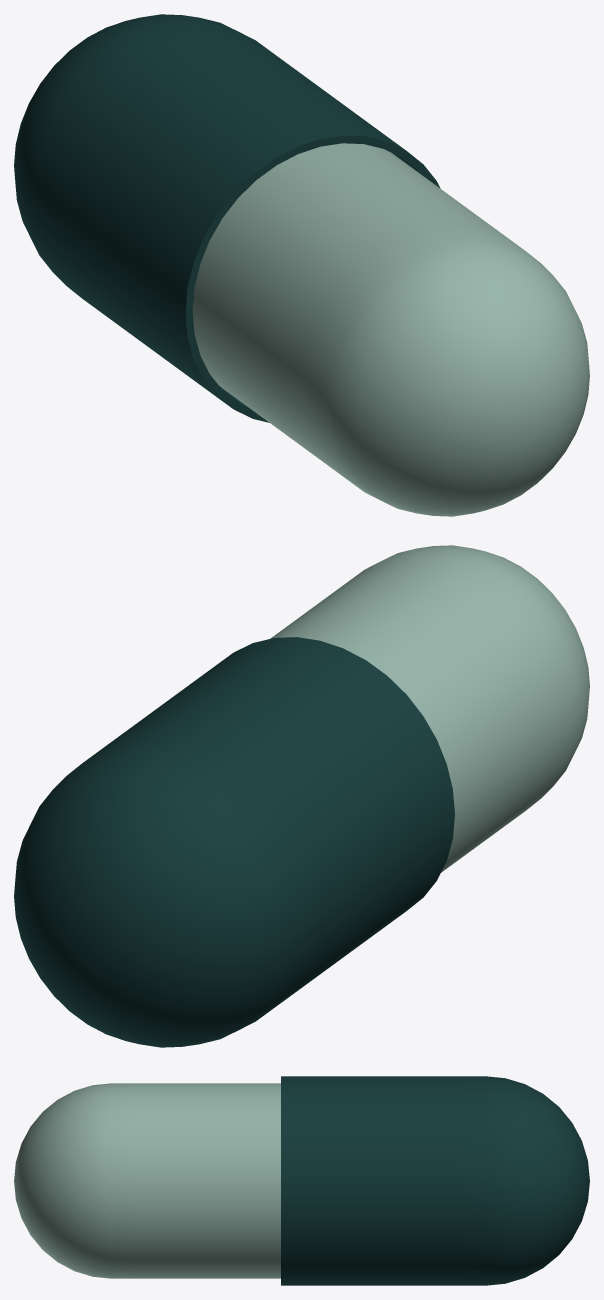
3 renders of one model, top to bottom at view 1: azimuth 30°, elevation 25°; view 2: azimuth 150°, elevation 25°; view 3: azimuth 270°, elevation 25°, orthographic. The views are drawn at different scales.
Visible parts, largest first — view 1: Object_2, Object_3; view 2: Object_3, Object_2; view 3: Object_3, Object_2.
Boxes of the visible parts, x1,y1,x2,y2 form: Object_2: [192, 143, 589, 516]; Object_3: [14, 14, 440, 422]; Object_3: [14, 637, 454, 1047]; Object_2: [270, 545, 589, 872]; Object_3: [281, 1076, 589, 1285]; Object_2: [14, 1083, 280, 1278].
Bounding box in the file's own units: 1.09 × 1.09 × 2.99.
